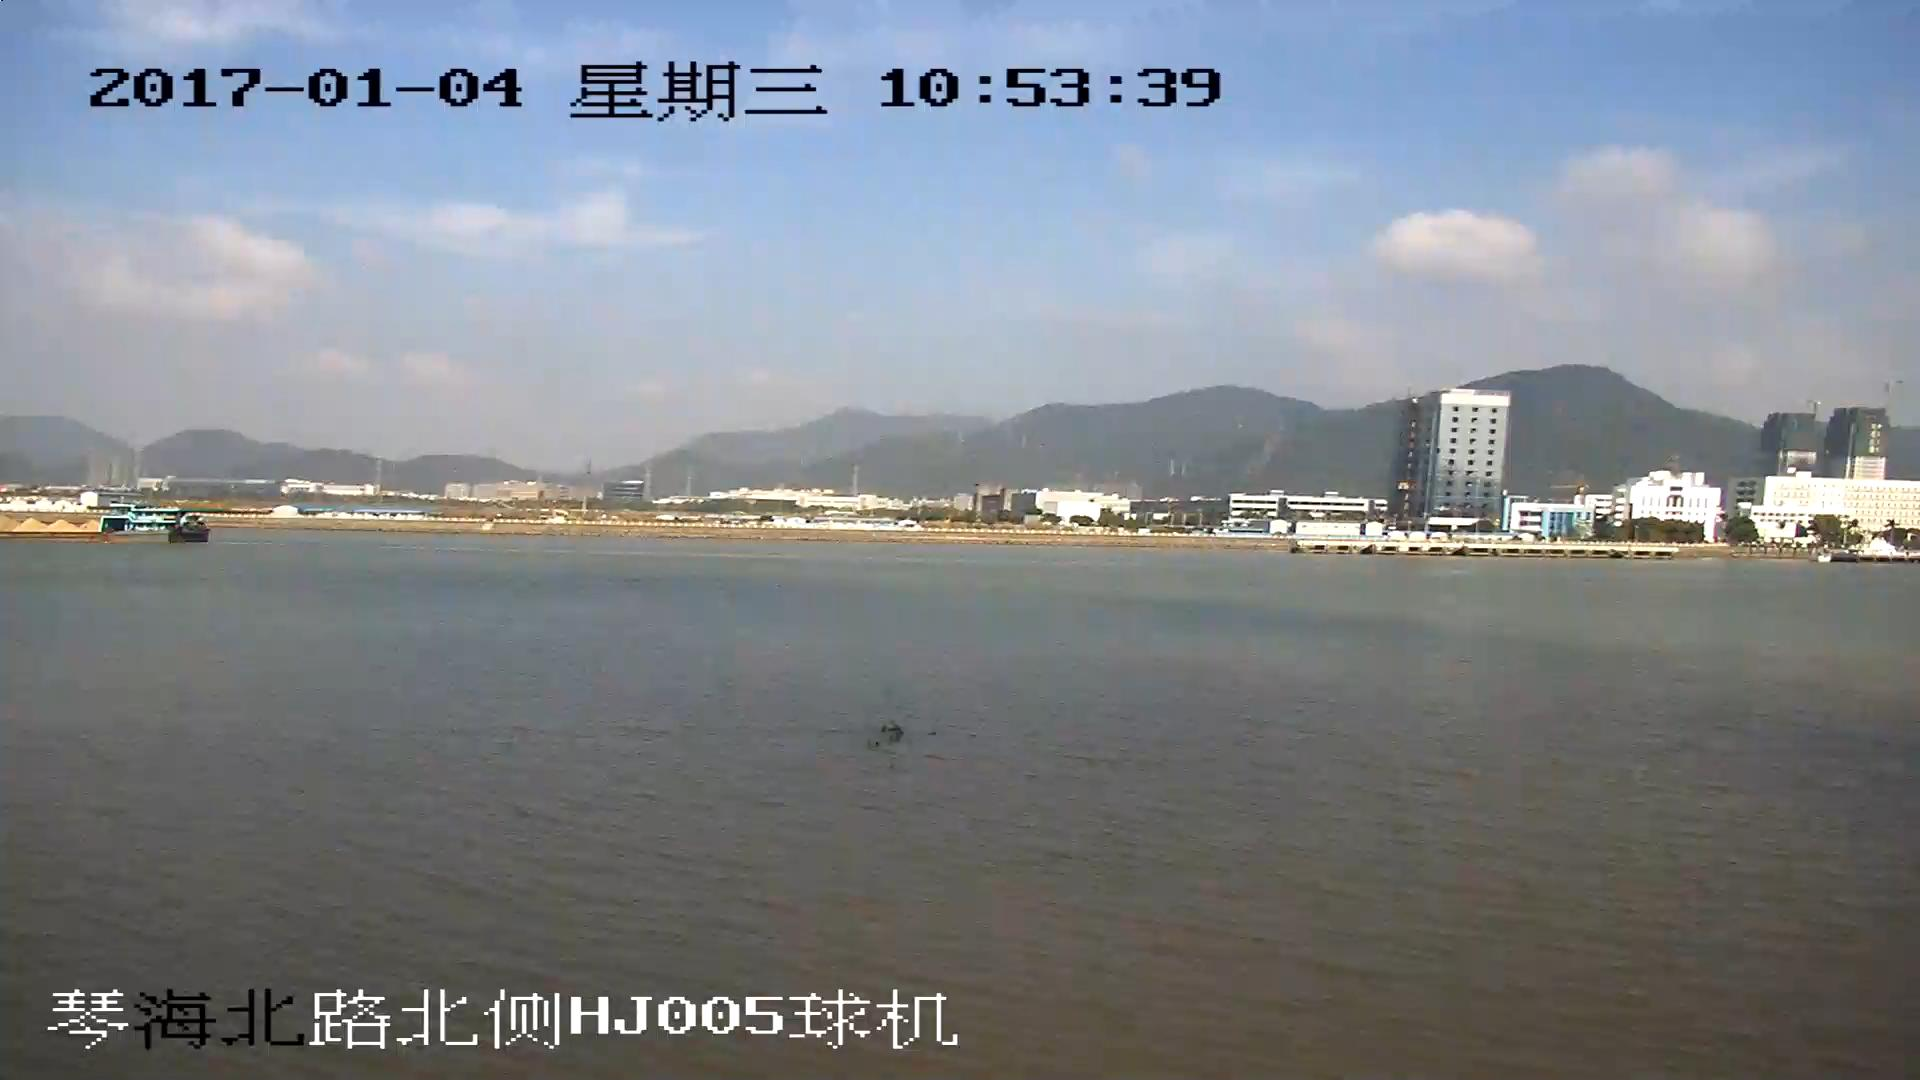ore carrier: (1, 506, 211, 543)
